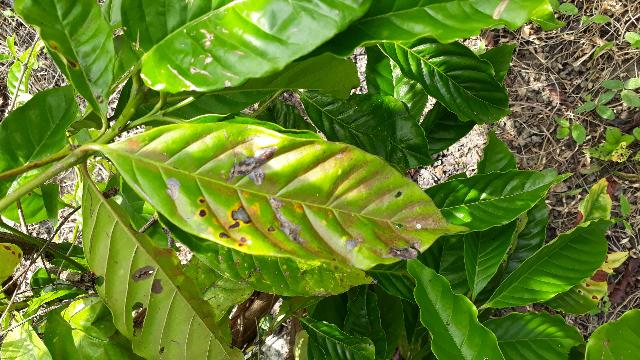red_spider_mite: (96, 116, 475, 272)
